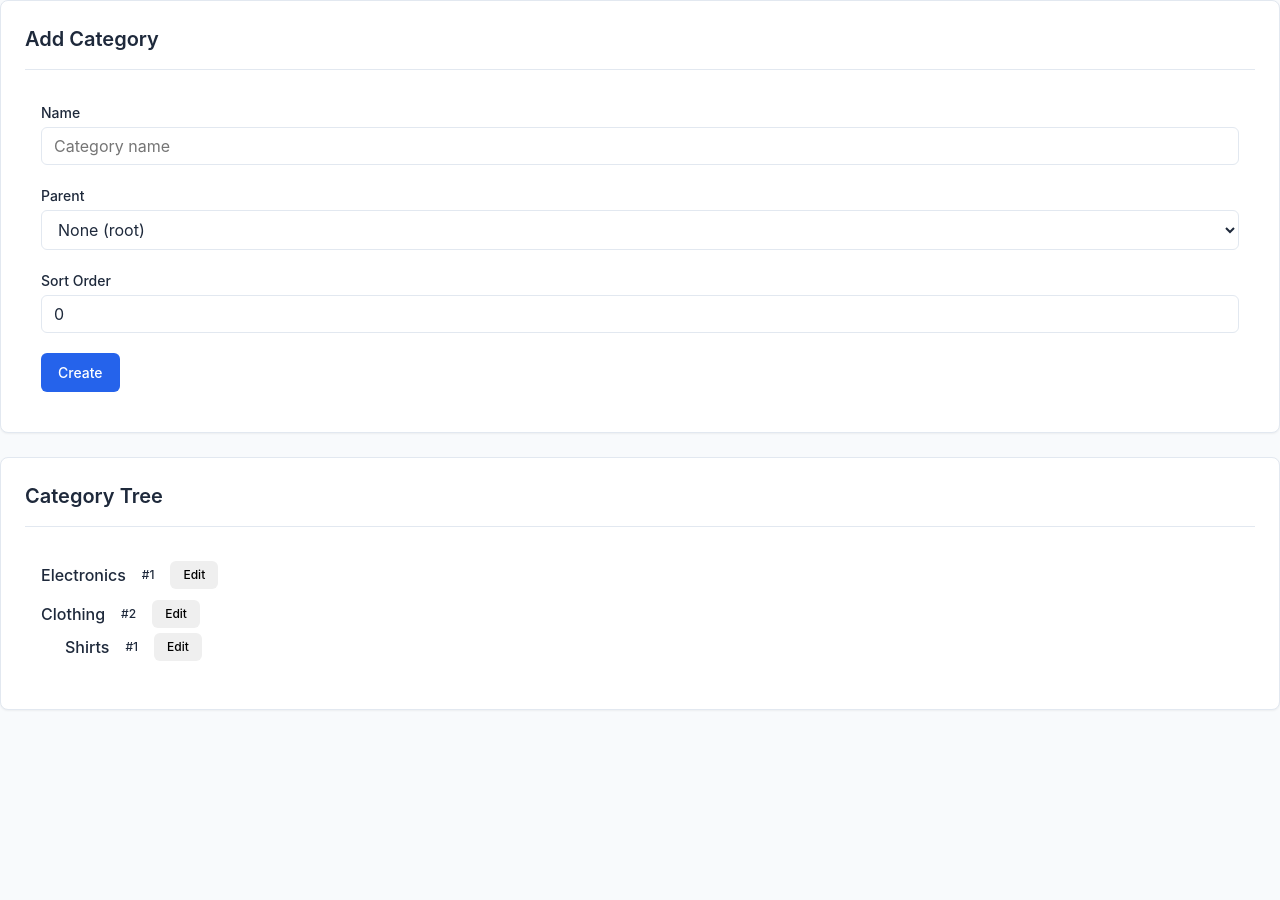
Test case: AdminCategoriesTab — edit mode › reverts to "Add Category" mode after Cancel clicked
This screenshot has width=1280, height=900.
Click the button "Edit" in the row of "Electronics" at (194, 575), box x1=170 y1=561 x2=218 y2=589
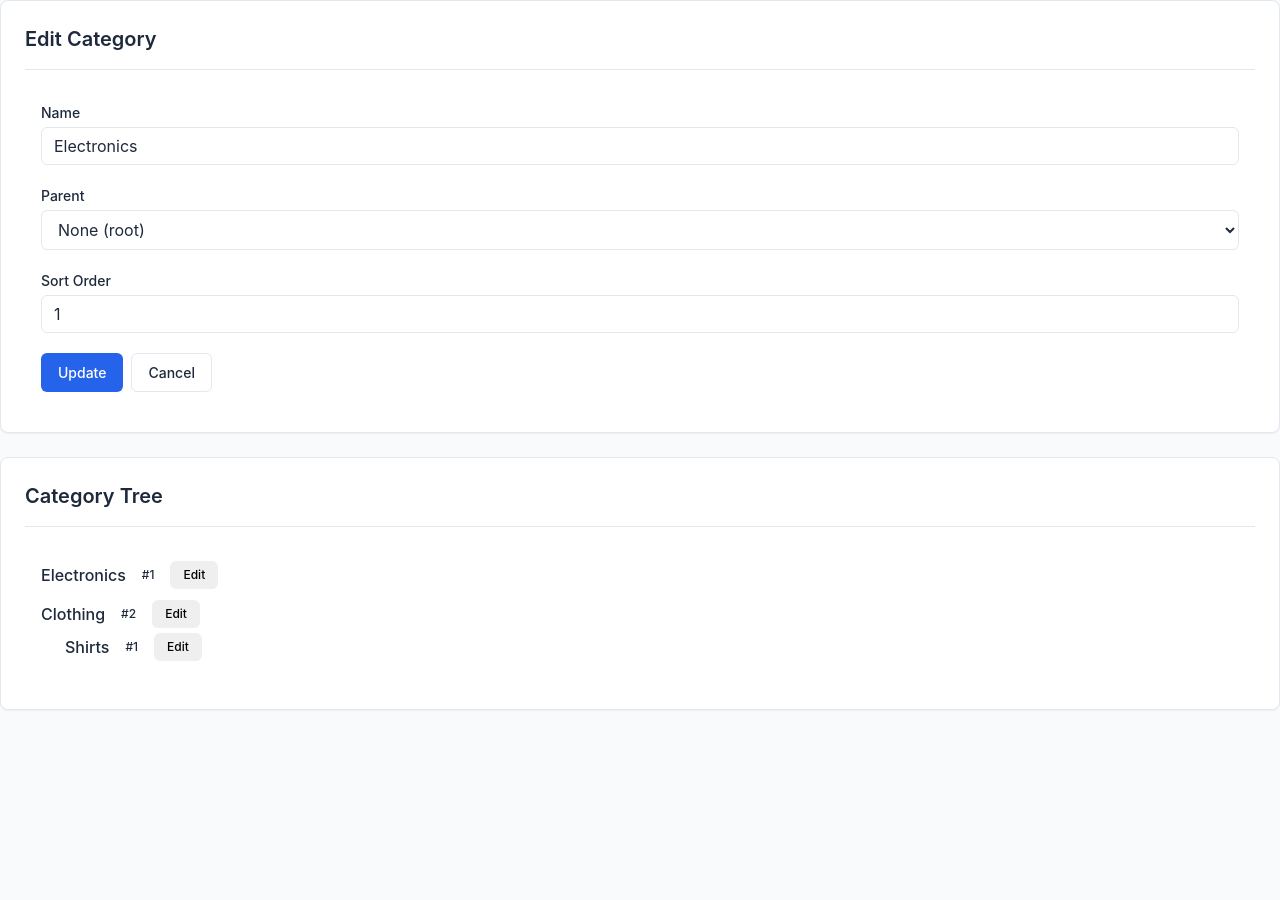
Click the button "Cancel" at (172, 372), box x1=132 y1=353 x2=212 y2=392
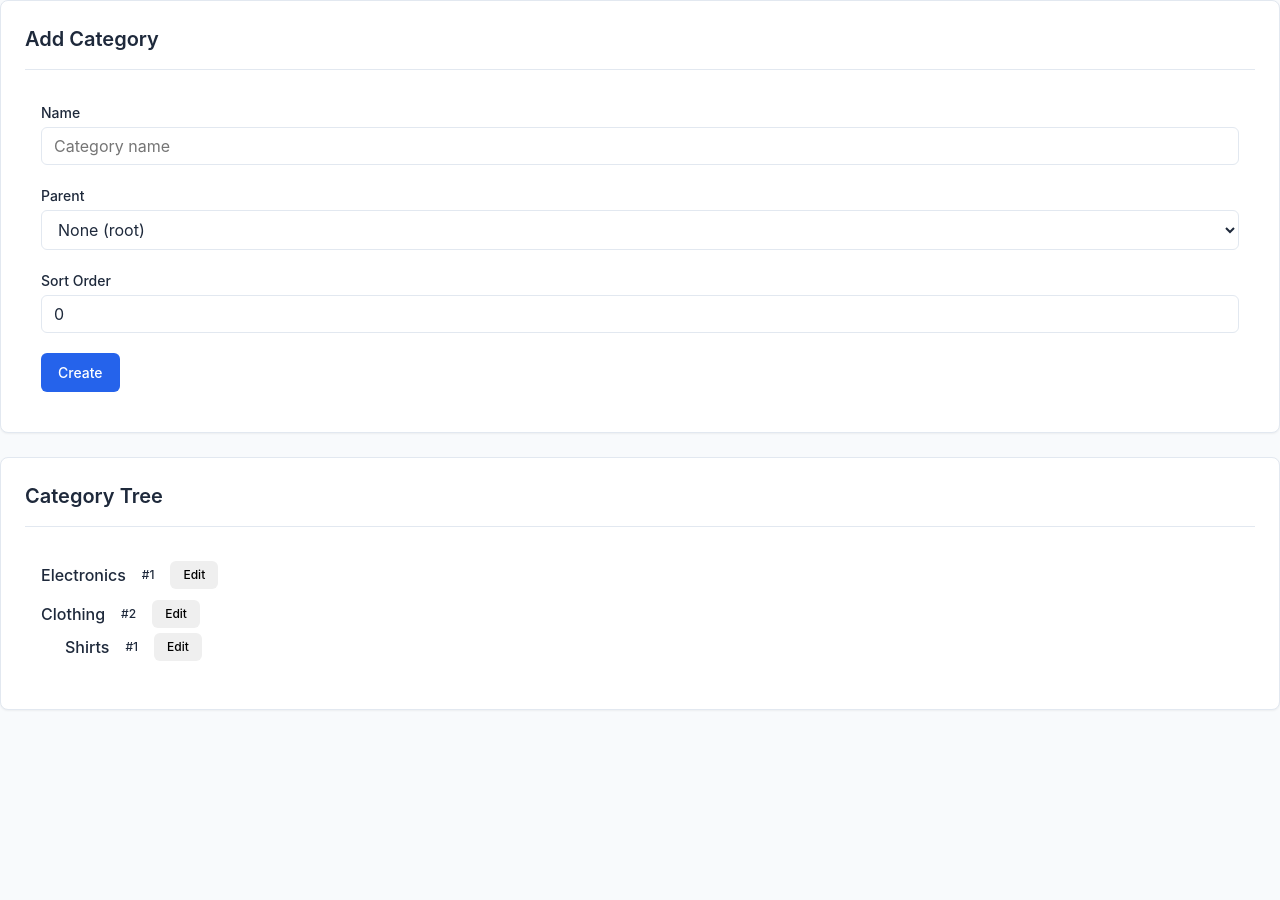
Now the text "Add Category" is shown, box x1=25 y1=25 x2=159 y2=53
